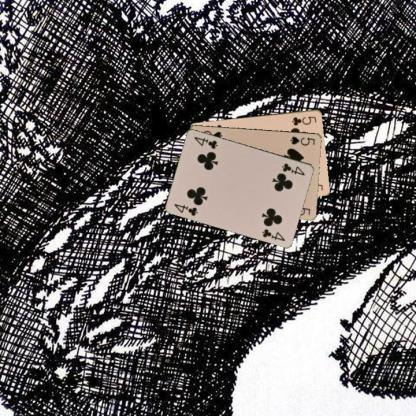4c: (172, 201, 199, 217), (280, 160, 306, 176)
5c: (290, 114, 317, 126)
5s: (288, 133, 316, 147)
